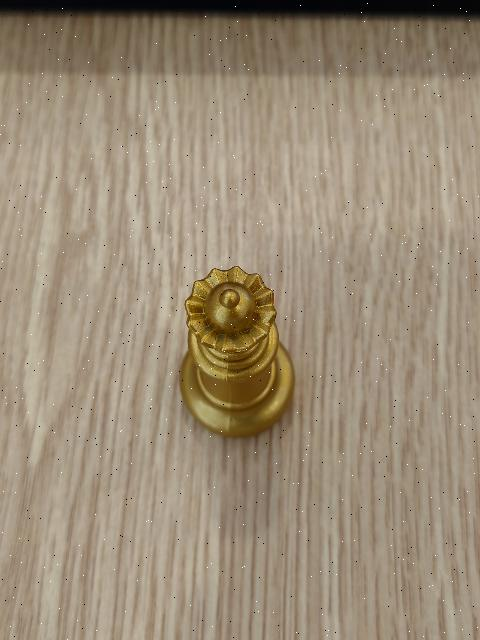black_queen: (177, 265, 293, 439)
